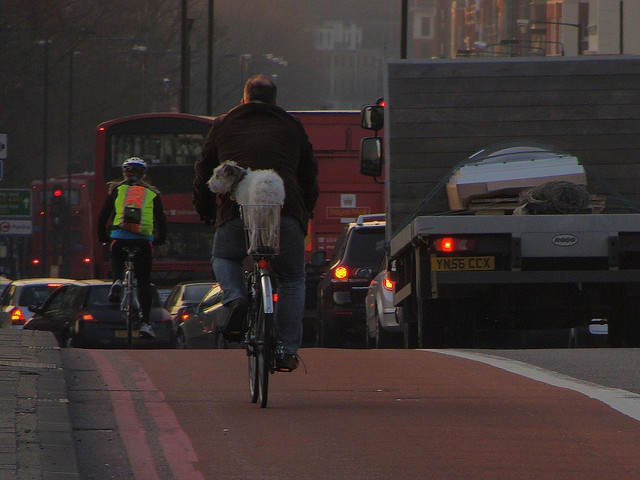non-vehicle: (238, 252, 295, 408), (122, 245, 138, 344)
